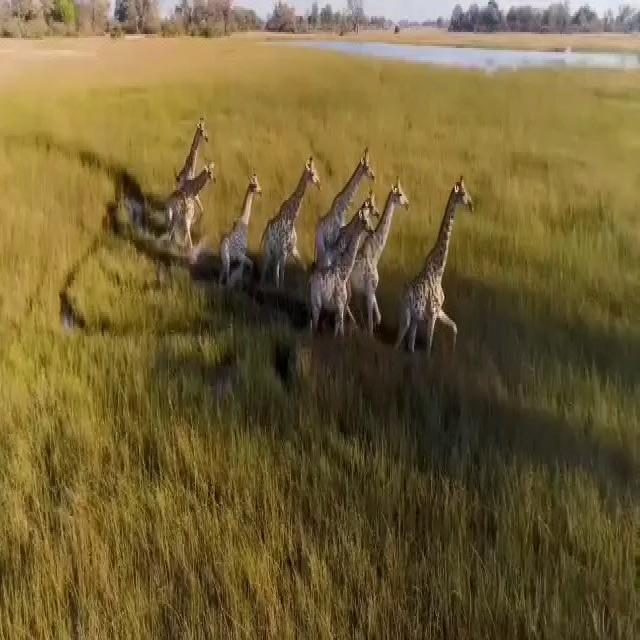Girraffe: (406, 179, 476, 378), (314, 205, 375, 362), (360, 168, 406, 352), (262, 157, 316, 308), (310, 146, 374, 262), (164, 143, 214, 263), (219, 177, 264, 310), (178, 110, 206, 183)
